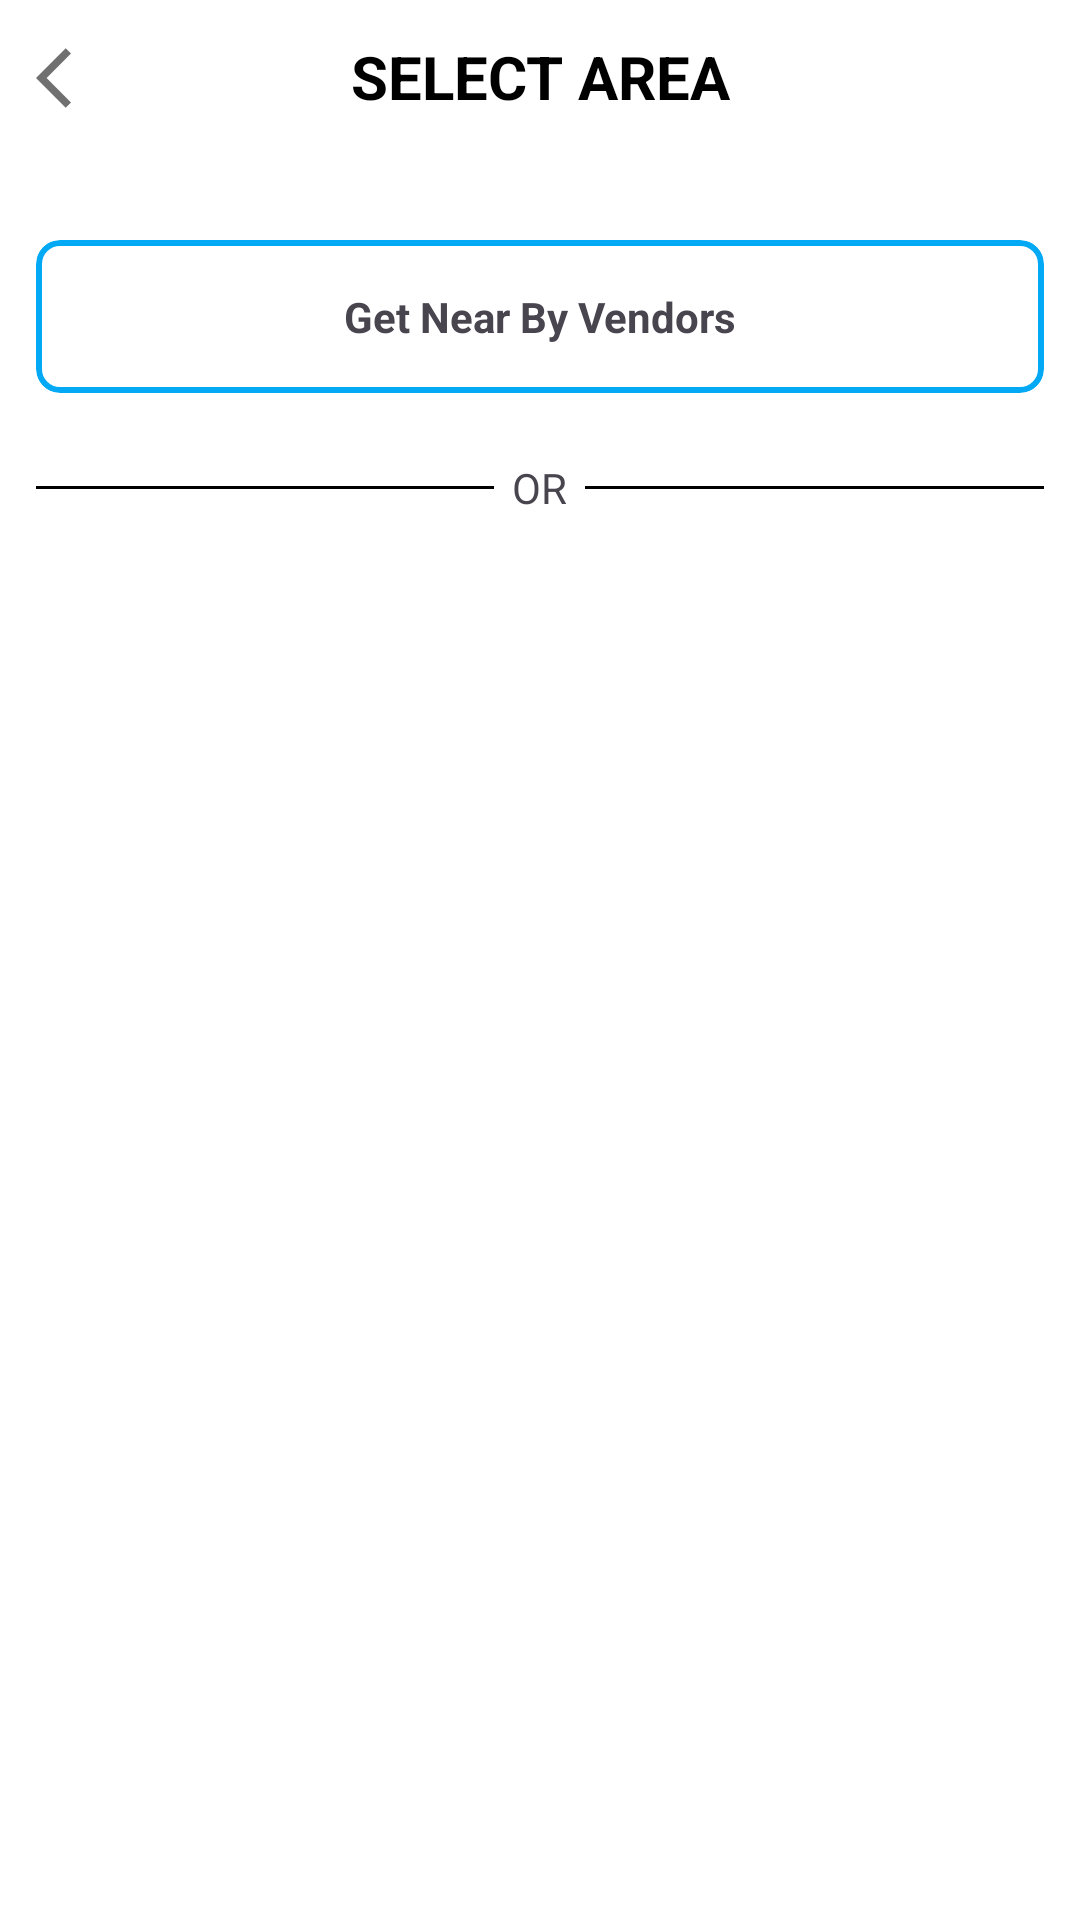

Named icons in this screenshot (1080px×1920px) and their bounding boxes, region(x1, y1, x2, y2):
arrow back: region(36, 48, 71, 108)
